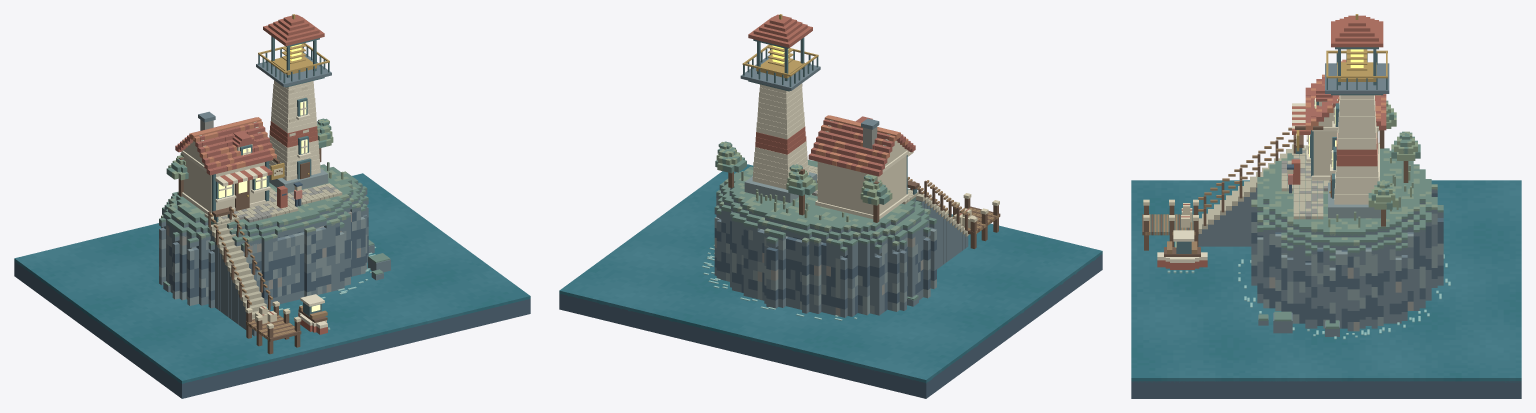
File: tidal_post.glb
3 renders of one model, left to right at view 1: azimuth 30°, elevation 25°; view 2: azimuth 150°, elevation 25°; view 3: azimuth 270°, elevation 25°, orthographic. The views are drawn at different scales.
Visible parts, largest first — view 1: Tidal water | water3, Tidal water | water4, Tidal water | water2, Tidal water | ink, Stratified cliff | stone, Tidal water | water5, Stratified cliff | grass, Stratified cliff | rockdark, Lighthouse | white, Stratified cliff | rocklight, Tidal water | water1, Post office | roof (+20 smaller); view 2: Tidal water | water3, Tidal water | water4, Stratified cliff | stone, Tidal water | ink, Tidal water | water2, Stratified cliff | grass, Tidal water | water5, Stratified cliff | rockdark, Lighthouse | white, Post office | plaster, Stratified cliff | rocklight, Post office | roof (+15 smaller); view 3: Tidal water | water3, Tidal water | water4, Tidal water | water2, Stratified cliff | stone, Stratified cliff | grass, Tidal water | ink, Tidal water | water5, Stratified cliff | rockdark, Lighthouse | white, Tidal water | water1, Stratified cliff | rocklight, Lighthouse | red (+26 smaller).
Boxes of the visible parts, bbox=[...] form: Tidal water | water3: bbox=[24, 173, 517, 383]; Tidal water | water4: bbox=[14, 175, 514, 382]; Tidal water | water2: bbox=[30, 186, 530, 379]; Tidal water | ink: bbox=[14, 261, 530, 398]; Stratified cliff | stone: bbox=[159, 182, 368, 308]; Tidal water | water5: bbox=[19, 207, 509, 370]; Stratified cliff | grass: bbox=[159, 164, 368, 248]; Stratified cliff | rockdark: bbox=[166, 211, 368, 300]; Lighthouse | white: bbox=[269, 80, 320, 180]; Stratified cliff | rocklight: bbox=[159, 211, 367, 305]; Tidal water | water1: bbox=[49, 192, 512, 370]; Post office | roof: bbox=[175, 117, 272, 175]; Tidal water | water3: bbox=[559, 170, 1102, 374]; Tidal water | water4: bbox=[562, 173, 1097, 383]; Stratified cliff | stone: bbox=[714, 183, 936, 317]; Tidal water | ink: bbox=[559, 254, 1102, 398]; Tidal water | water2: bbox=[579, 164, 1087, 370]; Stratified cliff | grass: bbox=[714, 159, 936, 252]; Tidal water | water5: bbox=[592, 177, 1083, 380]; Stratified cliff | rockdark: bbox=[714, 221, 936, 314]; Lighthouse | white: bbox=[752, 83, 808, 189]; Post office | plaster: bbox=[817, 120, 906, 214]; Stratified cliff | rocklight: bbox=[714, 198, 936, 315]; Post office | roof: bbox=[808, 116, 915, 176]; Tidal water | water3: bbox=[1131, 180, 1521, 382]; Tidal water | water4: bbox=[1131, 180, 1521, 382]; Tidal water | water2: bbox=[1131, 180, 1521, 382]; Stratified cliff | stone: bbox=[1251, 189, 1443, 331]; Stratified cliff | grass: bbox=[1257, 148, 1443, 261]; Tidal water | ink: bbox=[1131, 381, 1521, 398]; Tidal water | water5: bbox=[1131, 180, 1521, 382]; Stratified cliff | rockdark: bbox=[1251, 193, 1443, 328]; Lighthouse | white: bbox=[1330, 95, 1379, 204]; Tidal water | water1: bbox=[1131, 185, 1521, 381]; Stratified cliff | rocklight: bbox=[1251, 213, 1443, 328]; Lighthouse | red: bbox=[1331, 15, 1383, 166].
Bounding box in the file's own units: 15.6 × 11.23 × 13.
